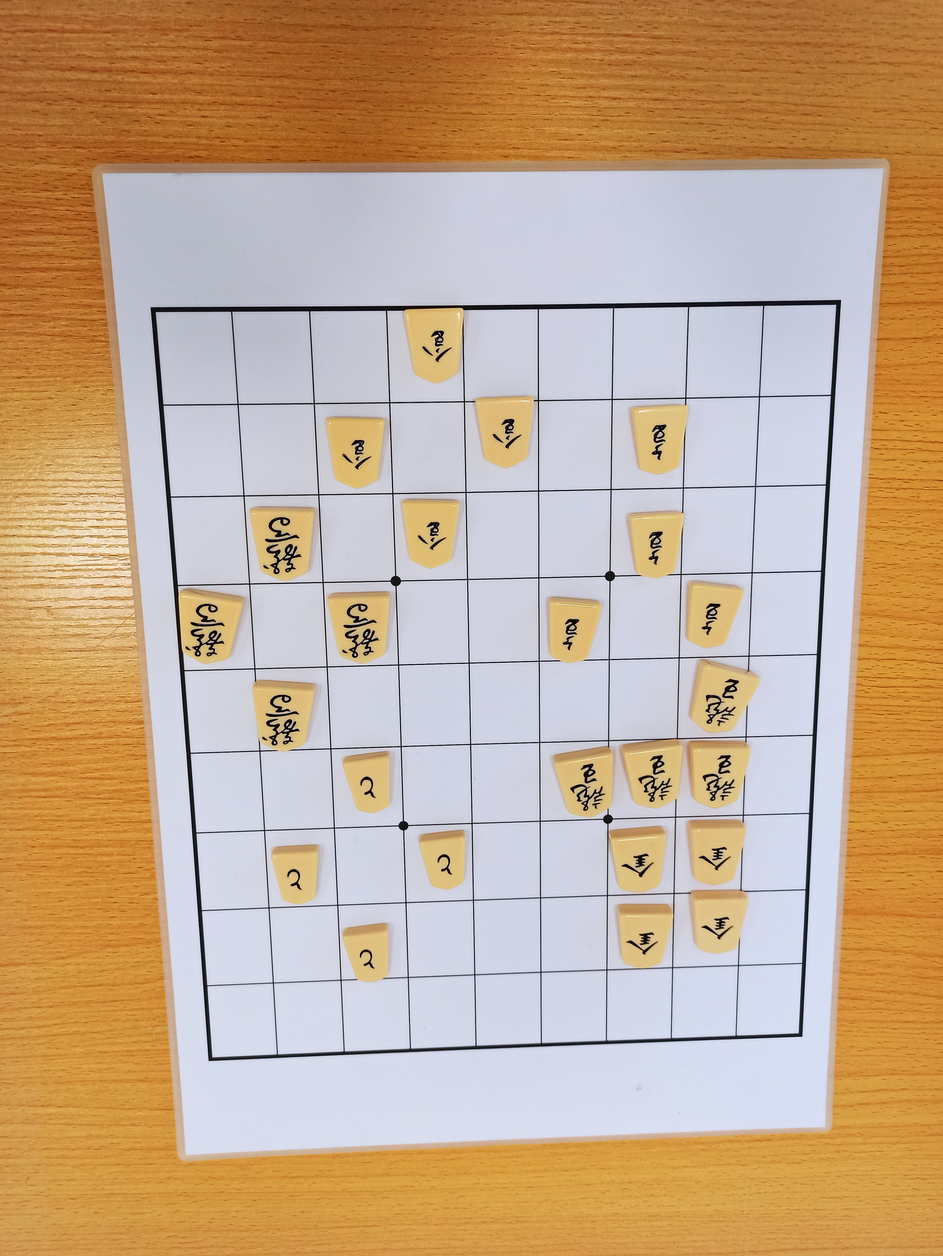board: (154, 301, 840, 1058)
